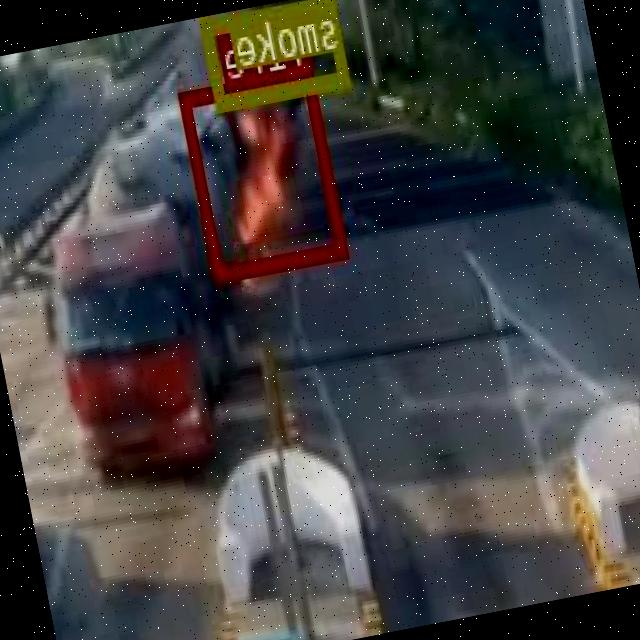fire: (180, 65, 348, 279)
smoke: (202, 0, 351, 107)
